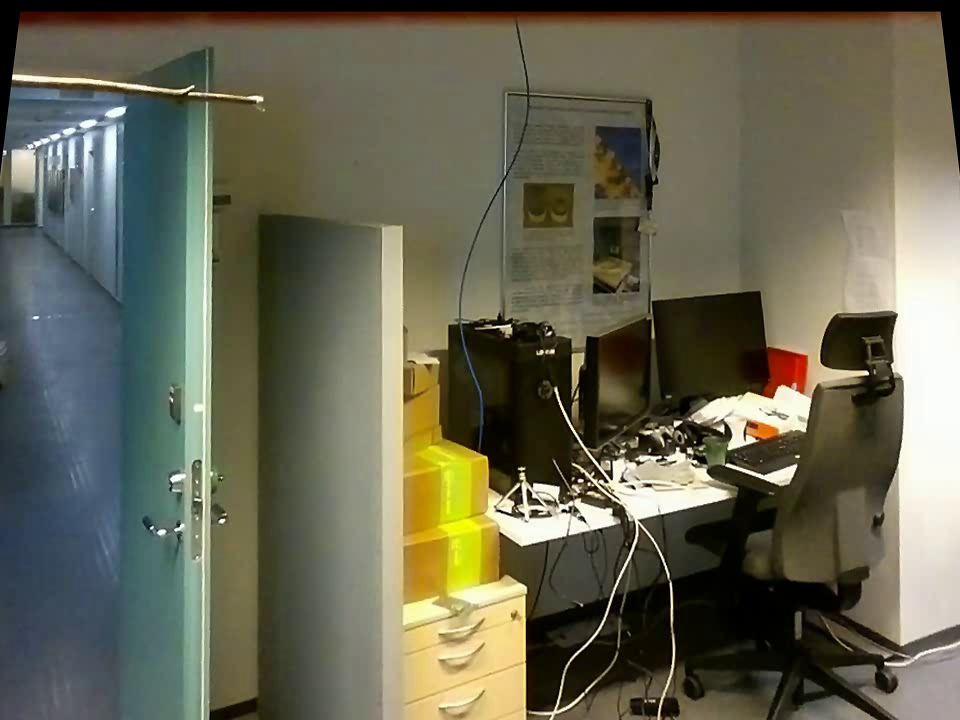branch: (17, 67, 248, 114)
